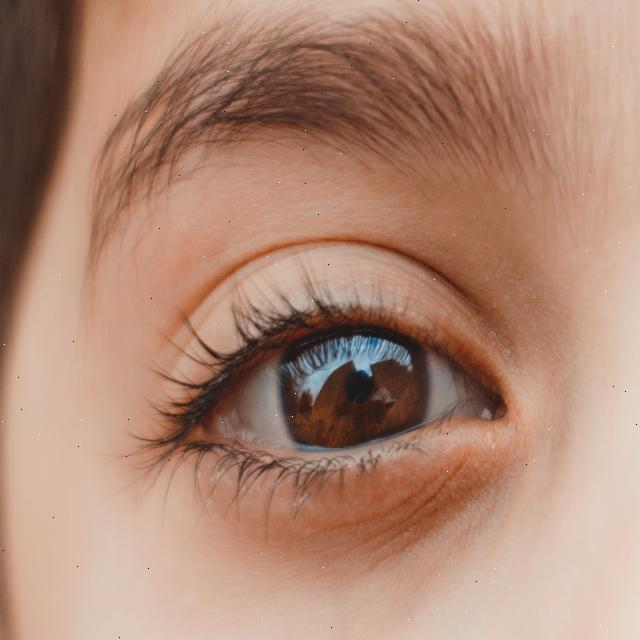Normal: (275, 293, 428, 482)
